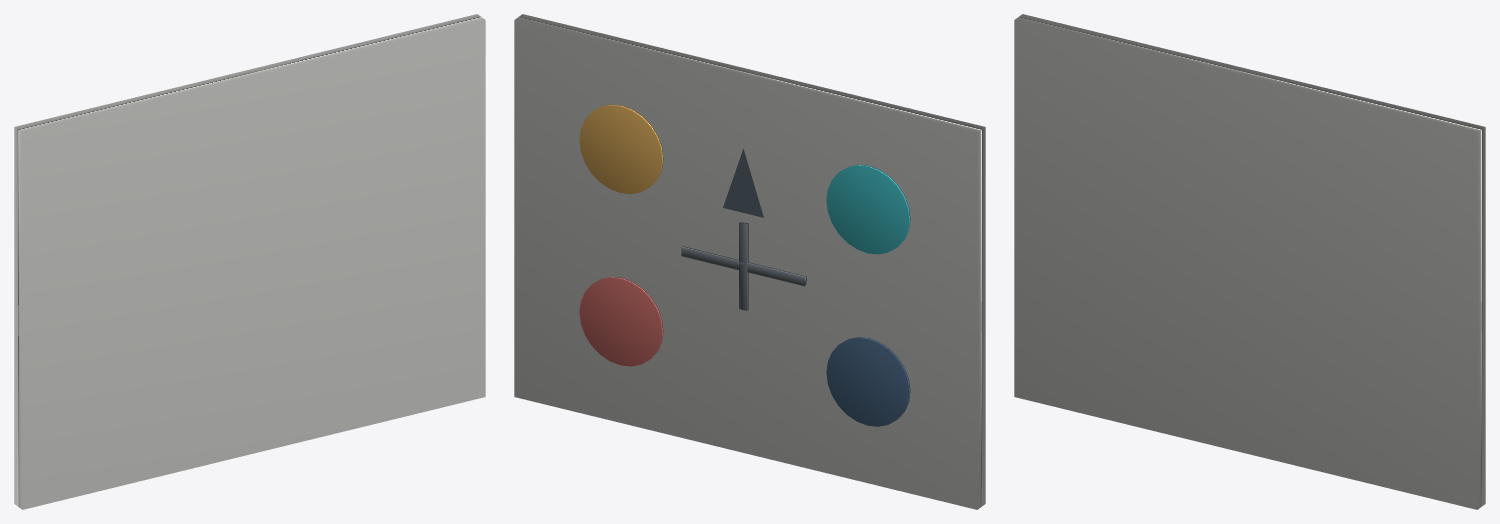
File: bench.glb
3 renders of one model, left to right at view 1: azimuth 30°, elevation 25°; view 2: azimuth 150°, elevation 25°; view 3: azimuth 330°, elevation 25°, orthographic.
Visible parts, largest first — view 1: BENCH_card; view 2: BENCH_card, BENCH_cyan, BENCH_amber, BENCH_navy, BENCH_coral, BENCH_cross, BENCH_up; view 3: BENCH_card.
Boxes of the visible parts, x1=… form: BENCH_card: x1=14, y1=14, x2=485, y2=509; BENCH_card: x1=514, y1=14, x2=985, y2=509; BENCH_cyan: x1=826, y1=165, x2=910, y2=254; BENCH_amber: x1=579, y1=104, x2=663, y2=194; BENCH_navy: x1=826, y1=337, x2=910, y2=426; BENCH_coral: x1=579, y1=277, x2=663, y2=366; BENCH_cross: x1=681, y1=221, x2=806, y2=310; BENCH_up: x1=723, y1=148, x2=763, y2=217; BENCH_card: x1=1014, y1=14, x2=1485, y2=509.
Size of the model in its own units: 45 by 35 by 1.85.
